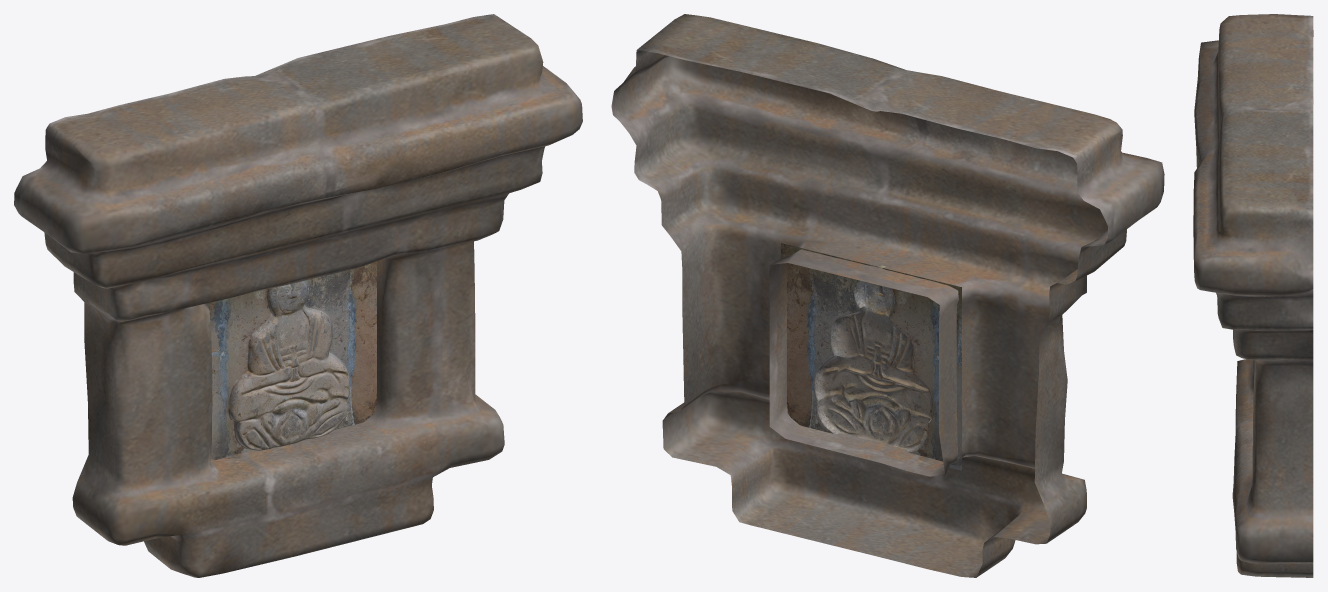
File: FoKan02.glb
3 renders of one model, left to right at view 1: azimuth 30°, elevation 25°; view 2: azimuth 150°, elevation 25°; view 3: azimuth 270°, elevation 25°, orthographic. The views are drawn at different scales.
Parts seen in each view (by area): view 1: FoKan02; view 2: FoKan02; view 3: FoKan02.
Part boxes in pixels (box(x1,y1,x2,y2)): FoKan02: box(14, 14, 582, 577); FoKan02: box(611, 14, 1164, 577); FoKan02: box(1193, 14, 1313, 577).
Size of the model in its own units: 2.83 by 2.44 by 0.6386.
2 materials, 2 textured.
